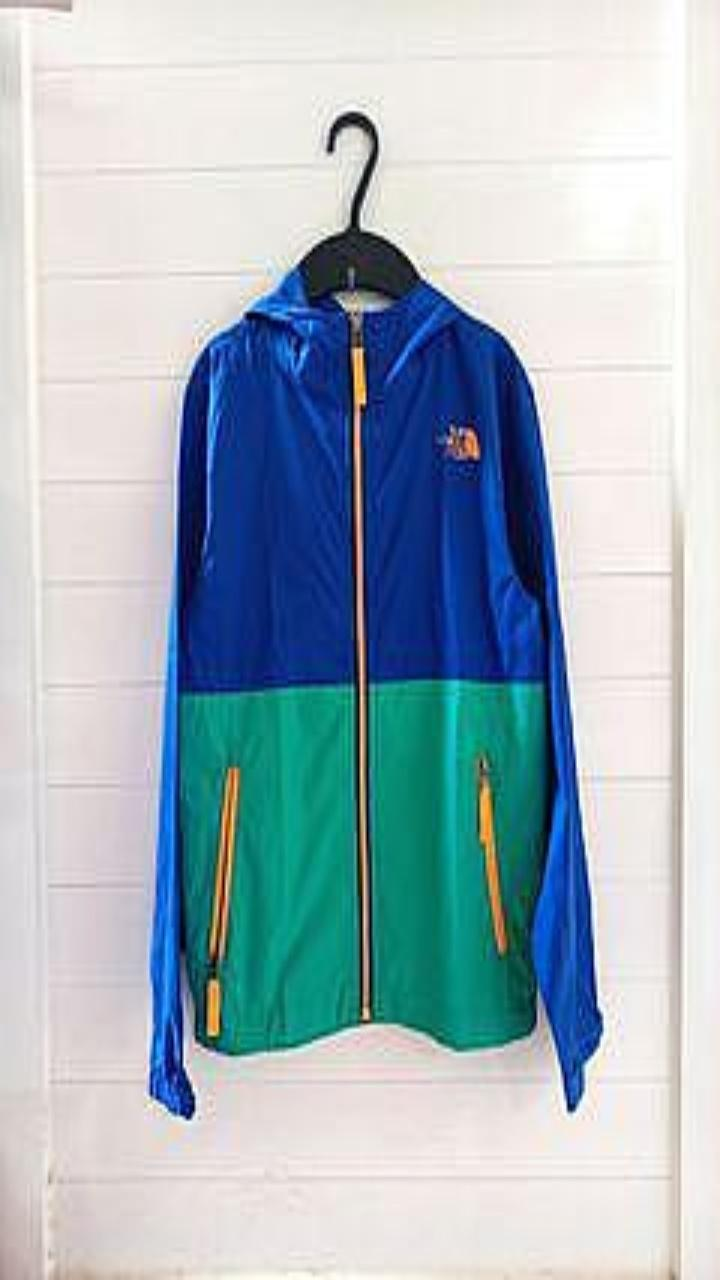Sports_Jacket: (149, 268, 601, 1116)
